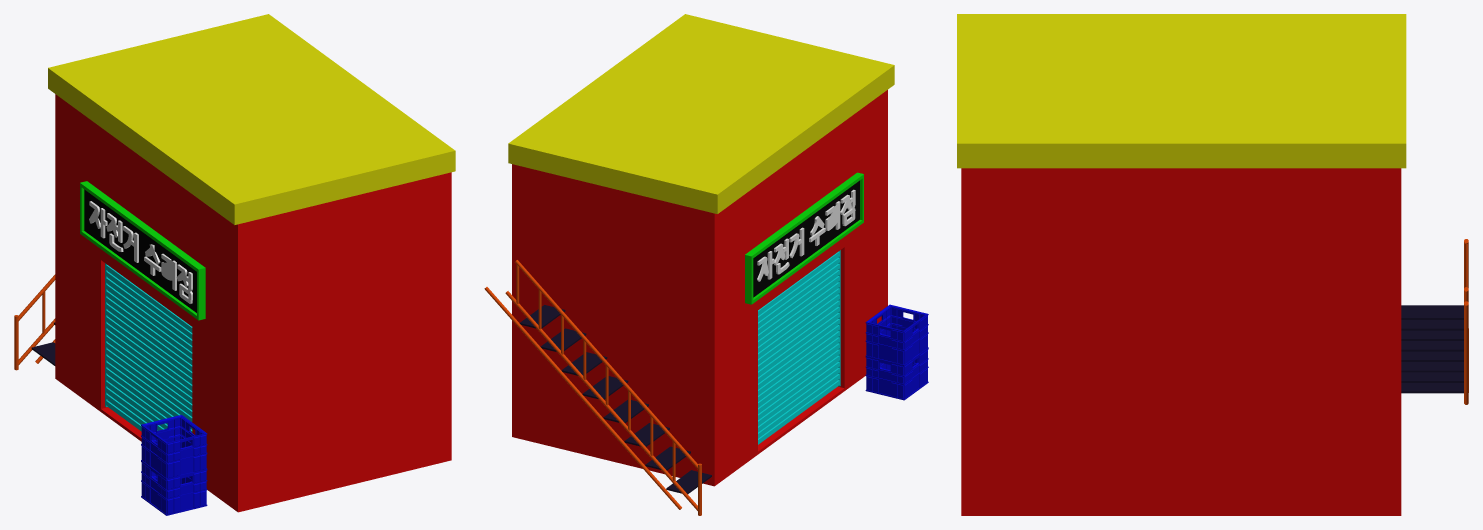
File: Building_5_2.fbx
3 views of the same model, side by side, from view 1: azimuth 30°, elevation 25°; view 2: azimuth 150°, elevation 25°; view 3: azimuth 270°, elevation 25° (orthographic). The views are drawn at different scales.
Parts seen in each view (by area): view 1: polySurface1363, polySurface1450, typeMesh21; view 2: polySurface1363, polySurface1450, typeMesh21; view 3: polySurface1363.
Part boxes in pixels (bbox=[...]): polySurface1363: bbox=[14, 14, 455, 515]; polySurface1450: bbox=[80, 181, 205, 320]; typeMesh21: bbox=[89, 201, 192, 303]; polySurface1363: bbox=[484, 14, 928, 515]; polySurface1450: bbox=[745, 172, 863, 304]; typeMesh21: bbox=[757, 189, 855, 281]; polySurface1363: bbox=[957, 14, 1468, 515].
Size of the model in its own units: 169 by 188 by 228.
